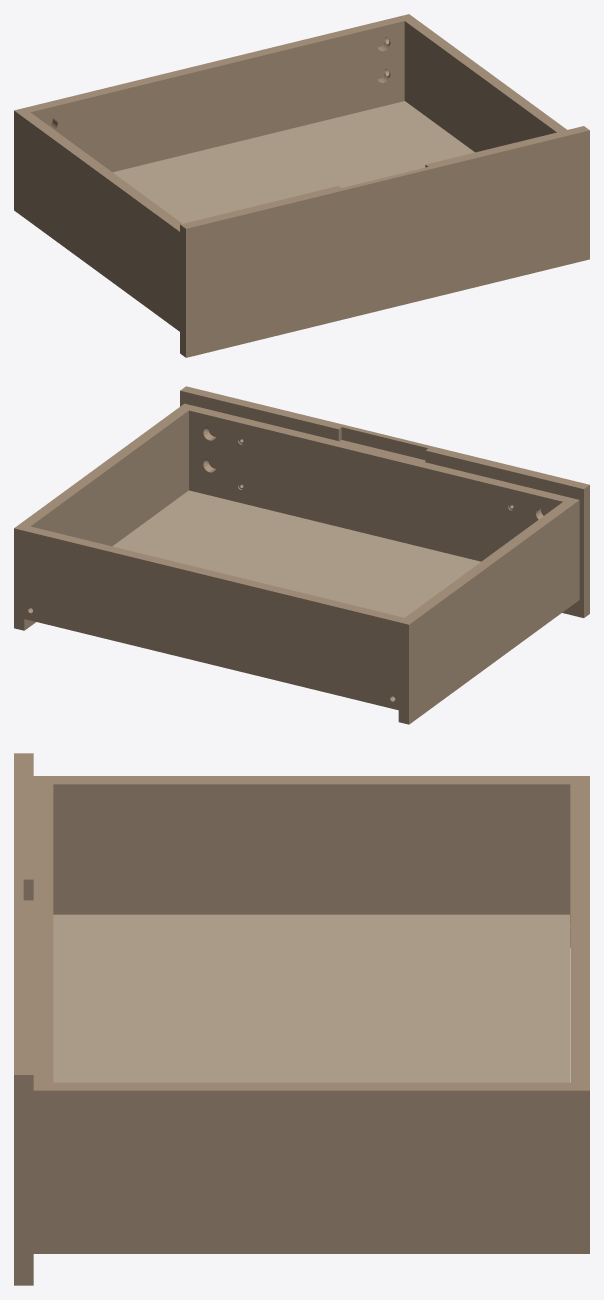
The model's file is drawer-drilled.glb.
The picture shows the model from 3 angles, top to bottom: view 1: azimuth 30°, elevation 25°; view 2: azimuth 150°, elevation 25°; view 3: azimuth 270°, elevation 25°; orthographic projection. The views are drawn at different scales.
Parts seen in each view (by area): view 1: face, rear, bottom, left, right; view 2: rear, front, bottom, left, right, face; view 3: right, bottom, left, face, front, rear.
Part boxes in pixels (x1=…): face: x1=180, y1=126, x2=589, y2=357; rear: x1=25, y1=16, x2=404, y2=172; bottom: x1=113, y1=101, x2=474, y2=223; left: x1=14, y1=108, x2=182, y2=331; right: x1=399, y1=14, x2=566, y2=152; rear: x1=24, y1=526, x2=404, y2=710; front: x1=189, y1=406, x2=568, y2=561; bottom: x1=112, y1=490, x2=480, y2=617; left: x1=398, y1=497, x2=579, y2=724; right: x1=14, y1=403, x2=194, y2=630; face: x1=180, y1=386, x2=589, y2=617; right: x1=33, y1=1082, x2=589, y2=1253; bottom: x1=53, y1=914, x2=569, y2=1082; left: x1=33, y1=776, x2=589, y2=947; face: x1=14, y1=753, x2=33, y2=1285; front: x1=33, y1=784, x2=53, y2=1082; rear: x1=570, y1=784, x2=589, y2=1082.
Bounding box in the file's own units: 0.465 × 0.142 × 0.352.
